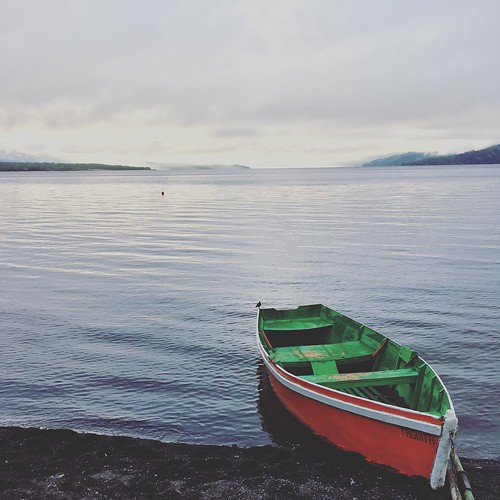boat: (242, 294, 473, 492)
river: (7, 168, 489, 451)
sky: (1, 1, 500, 156)
